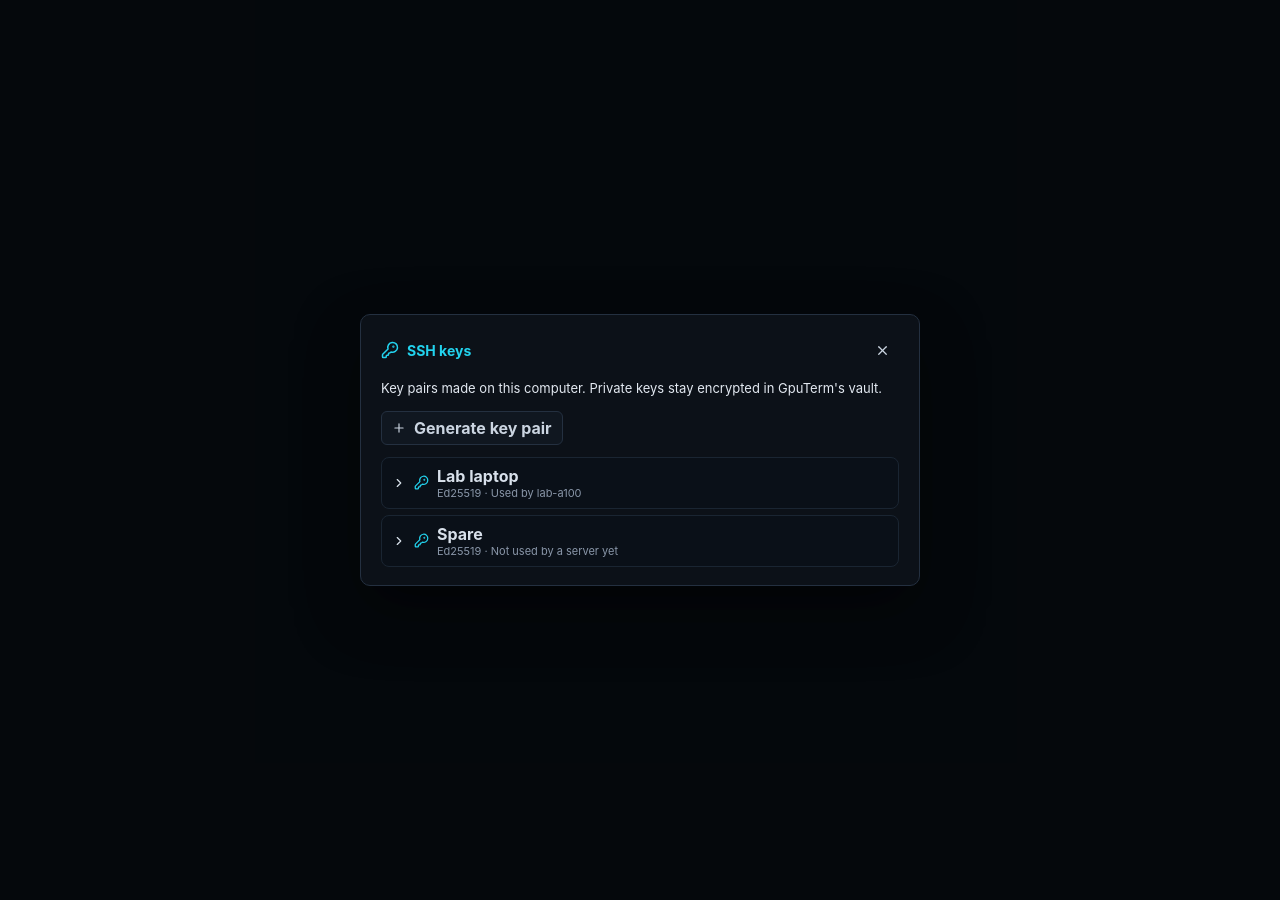
Test case: KeyManagerDialog › lists keys with their type and the servers using them
Expected: the text "Key pairs made on this computer. Private keys stay encrypted in GpuTerm's vault." is shown, [381,379,899,399]
Expected: the text "Ed25519 · Used by lab-a100" is shown, [437,486,582,500]
Click the button "Lab laptop Ed25519 · Used by lab-a100" at x=478, y=476, box [382,458,898,508]
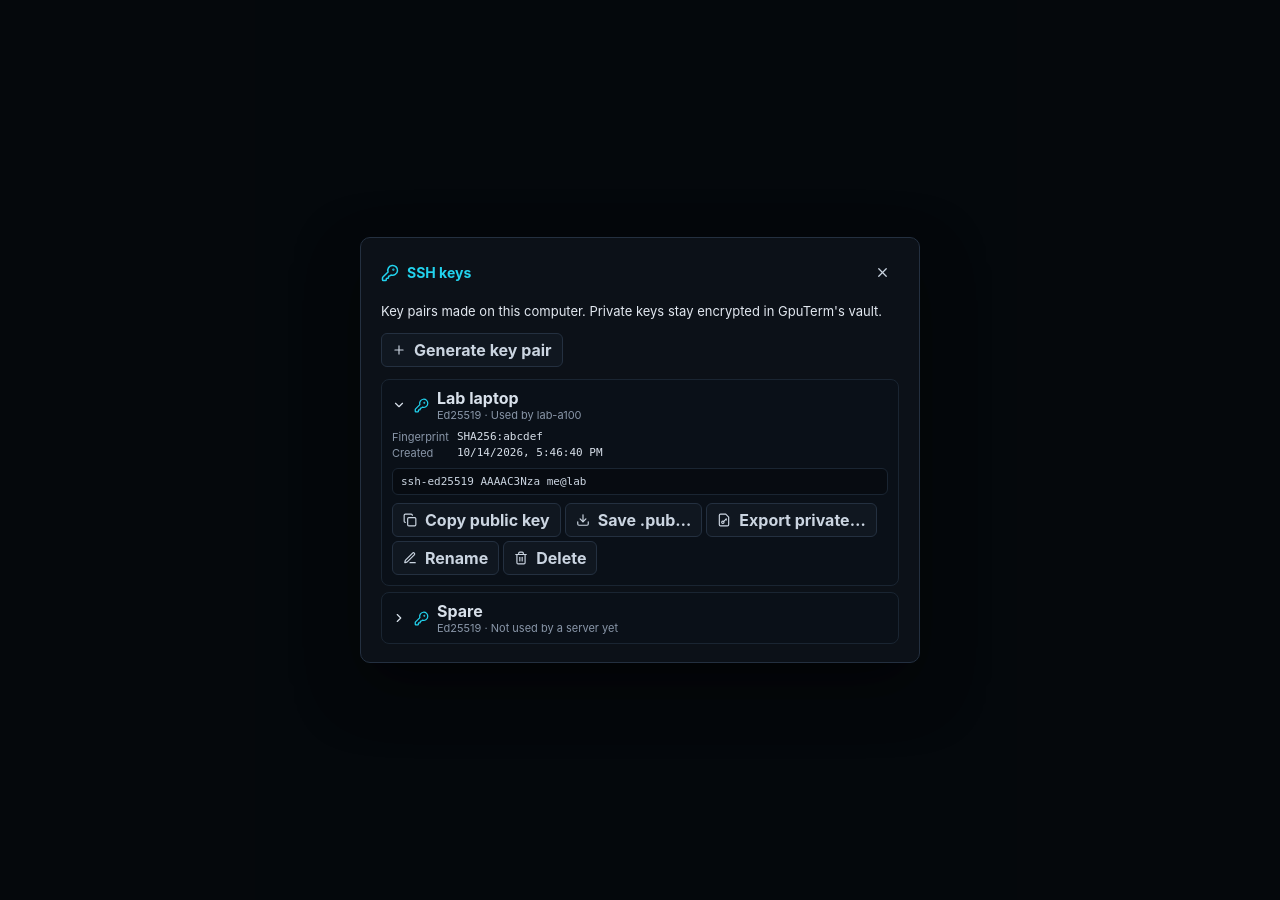
Expected: the text "SHA256:abcdef" is shown, [457,430,543,443]
Expected: the text named "Public key" reads "ssh-ed25519 AAAAC3Nza me@lab", [401,475,586,488]
